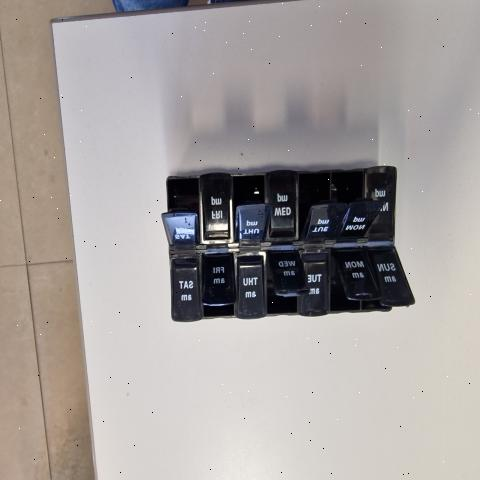Open: (161, 177, 203, 244), (297, 171, 329, 243), (234, 173, 263, 242), (331, 250, 364, 309), (332, 169, 380, 209), (270, 286, 309, 314), (365, 297, 409, 312), (201, 301, 234, 318)
